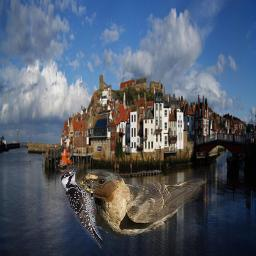Swallow: (76, 169, 207, 240)
Woodpecker: (60, 166, 103, 249)
